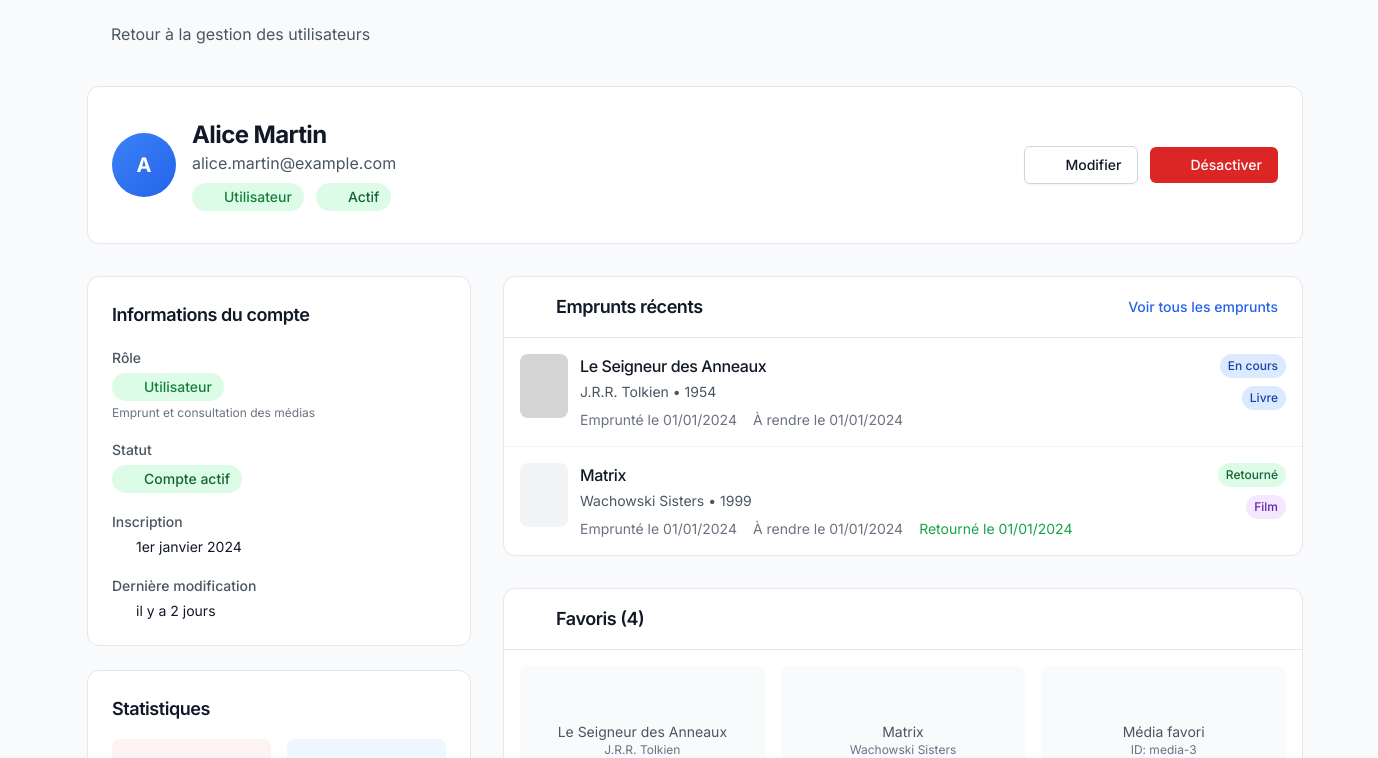
Test case: AdminUserDetailPage › Modal d'édition › permet d'ouvrir la modal d'édition
Click the button with test id "edit-button" at [1081, 165], box [1024,146,1138,184]
(page scrolled)
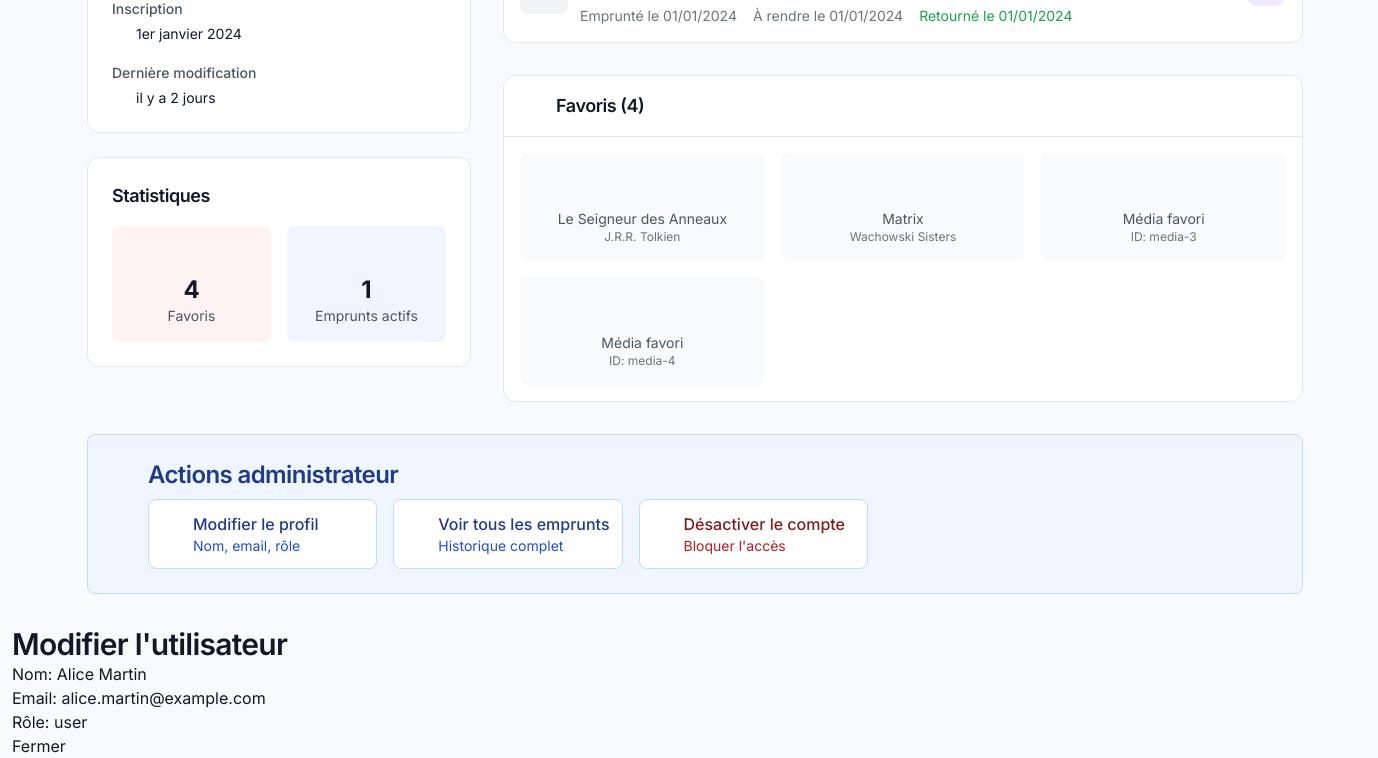
Expected: the element with test id "user-edit-modal" is shown, [12,626,287,757]
Expected: the heading "Modifier l'utilisateur" is shown, [12,626,287,662]
Expected: the text "Nom: Alice Martin" is shown, [12,664,147,684]
